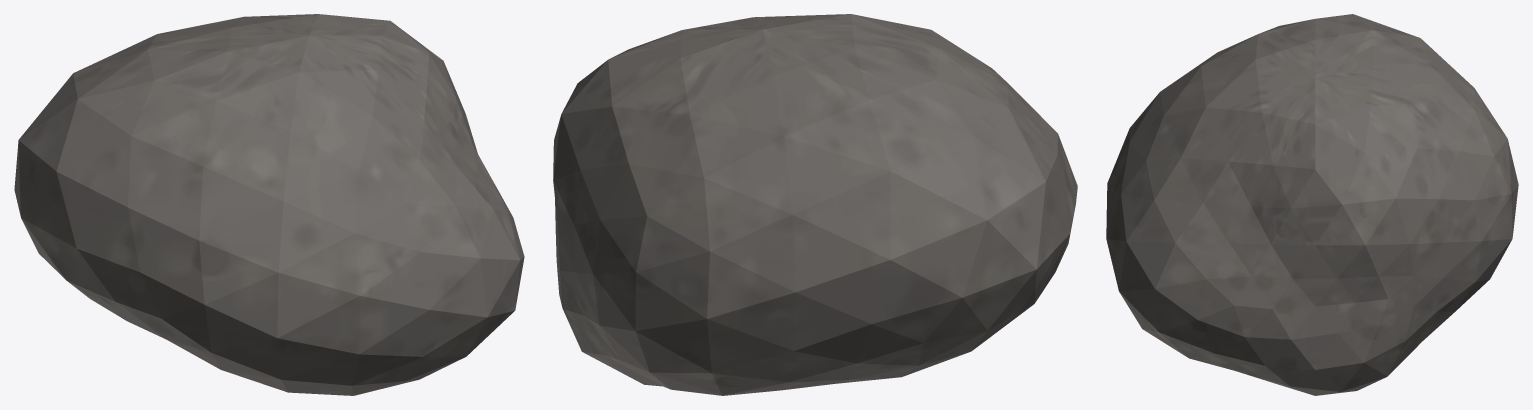
File: gen-asteroid.glb
3 renders of one model, left to right at view 1: azimuth 30°, elevation 25°; view 2: azimuth 150°, elevation 25°; view 3: azimuth 270°, elevation 25°, orthographic. The views are drawn at different scales.
Visible parts, largest first — view 1: glint-asteroid; view 2: glint-asteroid; view 3: glint-asteroid.
Part boxes in pixels (x1,y1,x2,y2): glint-asteroid: (14, 14, 524, 395); glint-asteroid: (553, 14, 1077, 395); glint-asteroid: (1106, 14, 1518, 395).
Size of the model in its own units: 2.47 by 1.77 by 2.33.
1 material, 1 textured.
